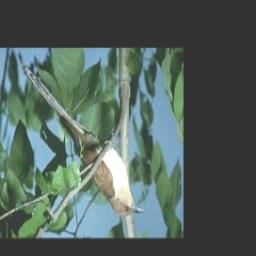Cuckoo: (21, 61, 147, 219)
